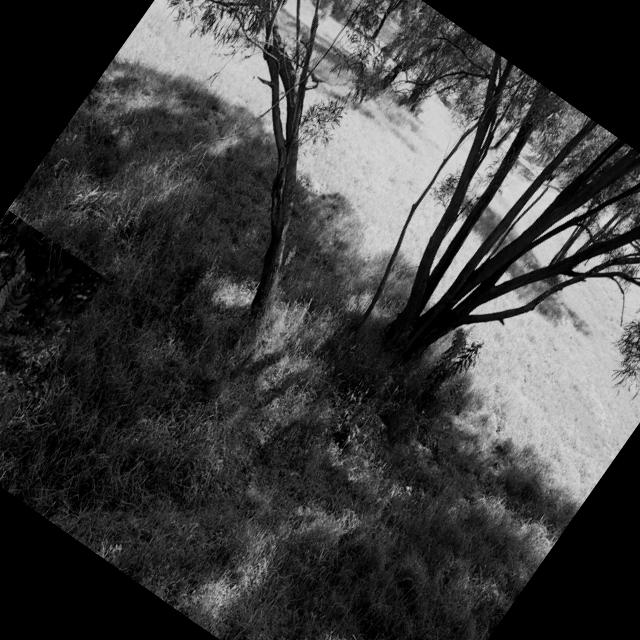Mysore-Thorn-Weed: (0, 209, 106, 468)
